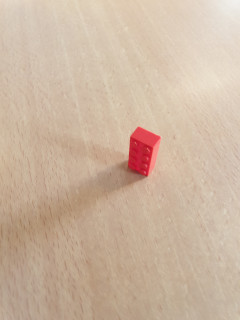2x4 red: (127, 125, 162, 178)
